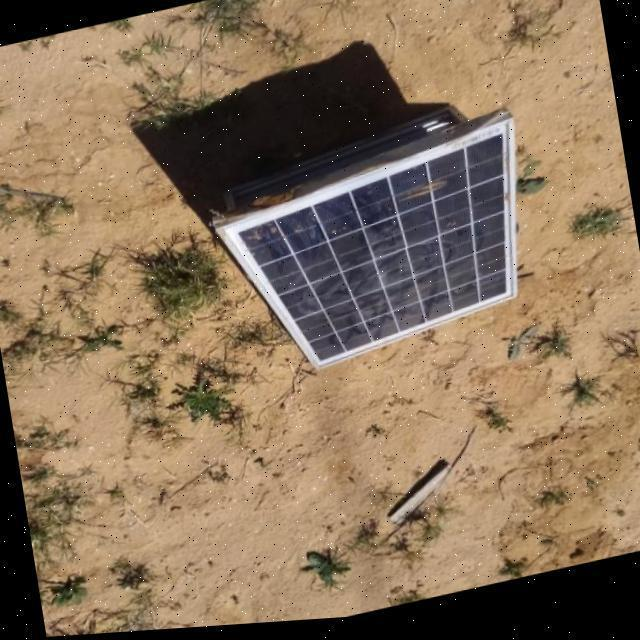Anomaly Solar Panel: (230, 137, 511, 375)
Surface Contaminant: (293, 222, 494, 362), (384, 182, 452, 215), (240, 224, 276, 252)
